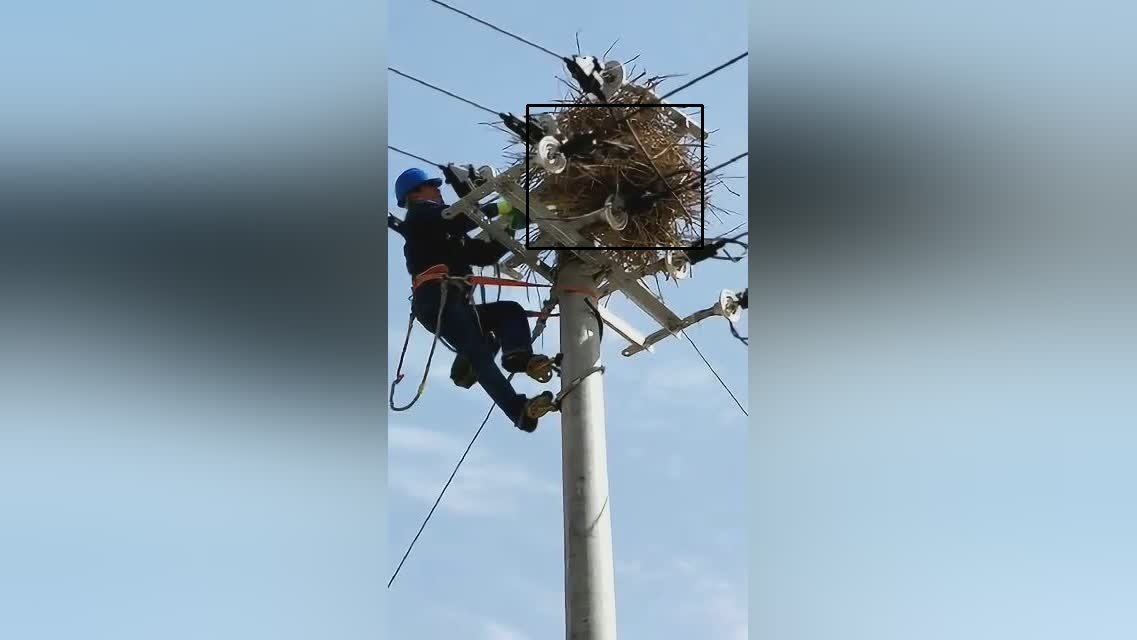bird-nest: (527, 105, 702, 248)
